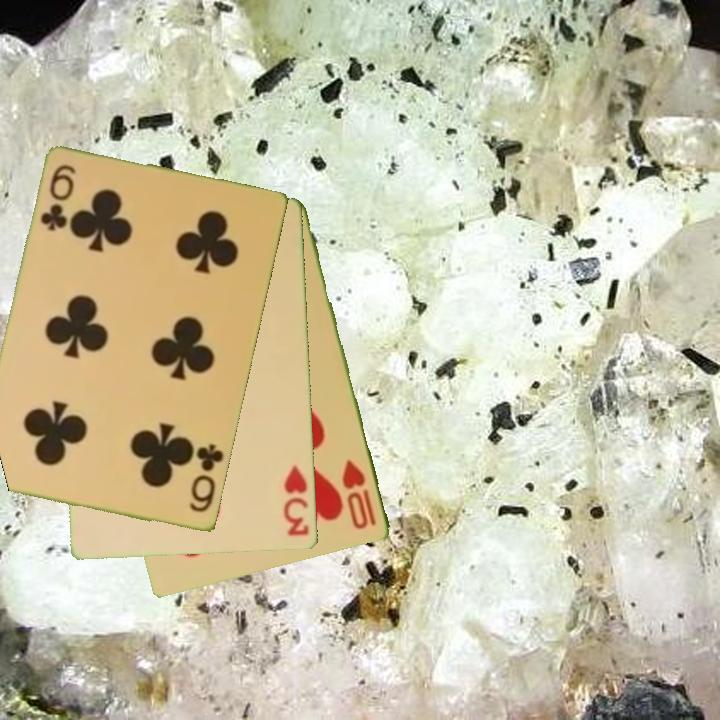10h: (339, 456, 380, 533)
3h: (280, 461, 312, 540)
6c: (186, 440, 227, 516), (37, 161, 79, 235)
